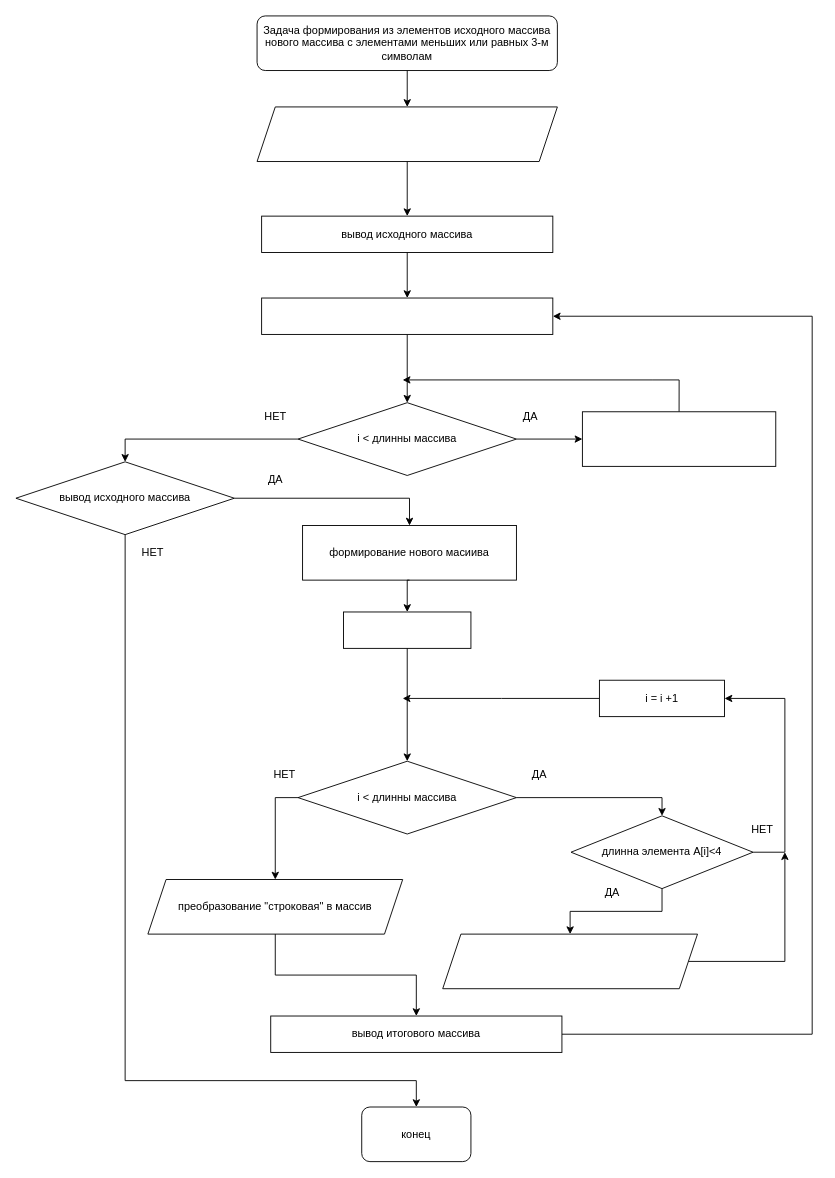
This 835x1178 diagram has some shape labels left out. The shapes that lost their labels are listed below. From the top down, each one's centre as x and y in pixels, then its label:
the point at 406,134: Ввод с клавиатуры строки елементов для формирования исходного массива A[]
the point at 407,315: i = 0
the point at 678,438: вывод эелемента массива A[i] i = i + 1
the point at 407,629: i = 0 строковая = пустая
the point at 570,961: строковая = строковая + пробел + A[i]
